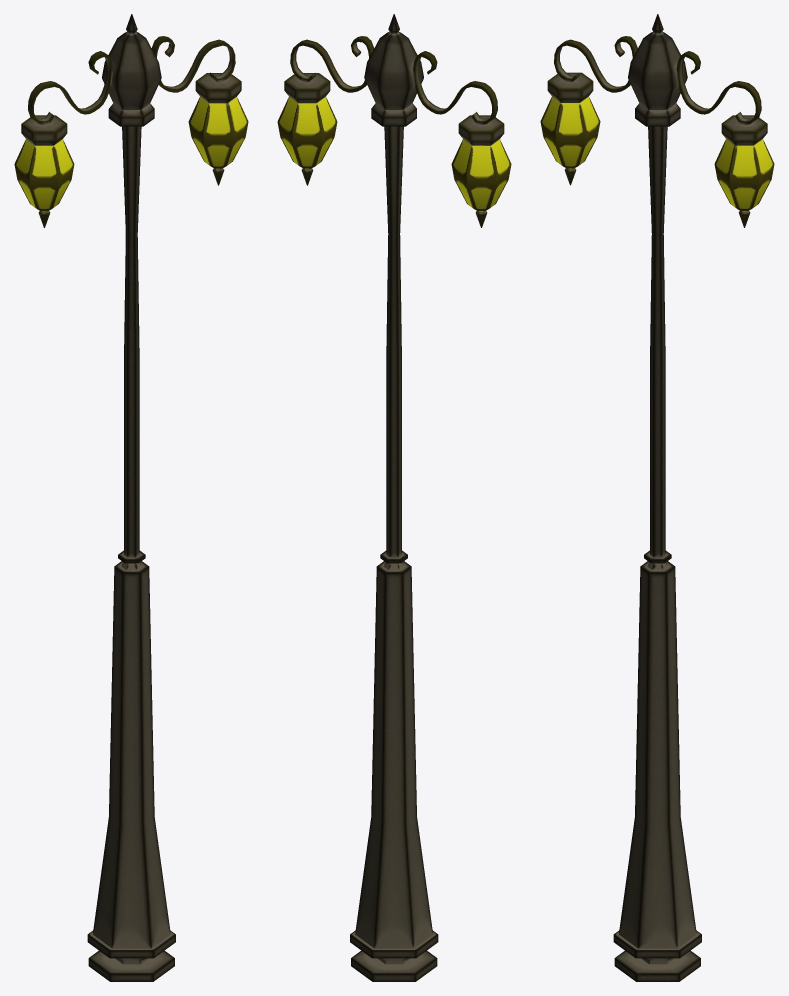
File: lightpost.glb
3 renders of one model, left to right at view 1: azimuth 30°, elevation 25°; view 2: azimuth 150°, elevation 25°; view 3: azimuth 330°, elevation 25°, orthographic.
Visible parts, largest first — view 1: defaultMaterial.002; view 2: defaultMaterial.002; view 3: defaultMaterial.002.
Boxes of the visible parts, <box> form: defaultMaterial.002: <box>14,14,248,981</box>; defaultMaterial.002: <box>277,14,511,981</box>; defaultMaterial.002: <box>540,14,774,981</box>.
Bounding box in the file's own units: 5.87 × 24.37 × 2.05.
1 material, 1 textured.
